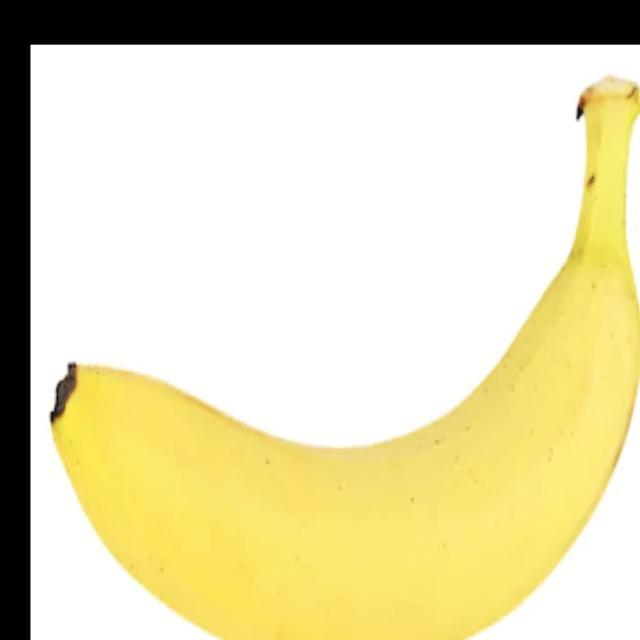Banana: (48, 73, 639, 639)
